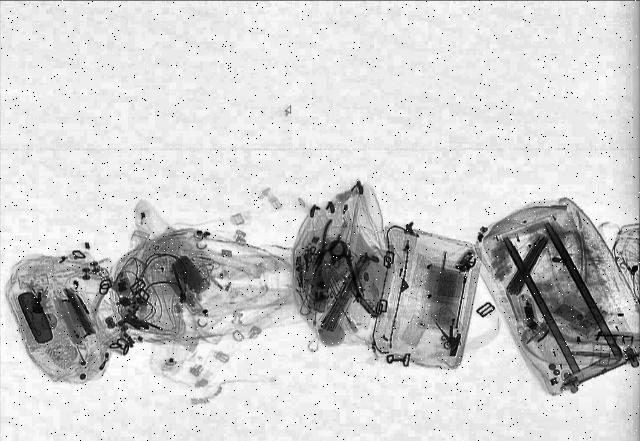Pliers: (299, 218, 351, 274)
